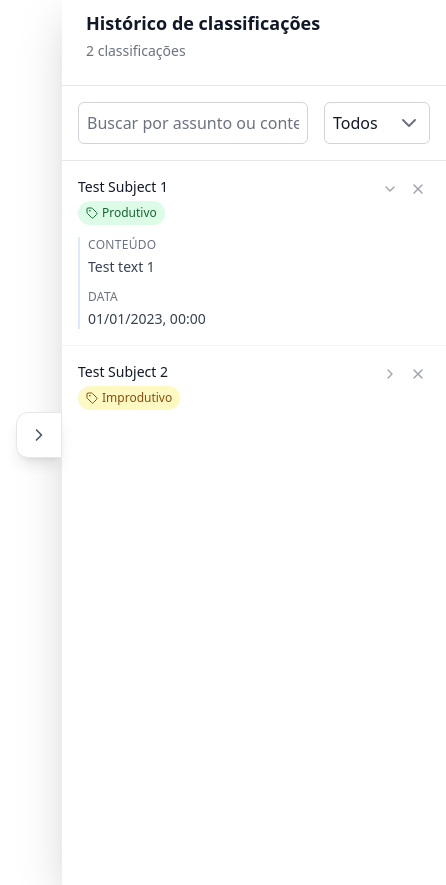
Scenario: EmailSidebar › renders results and expands them correctly
The image size is (446, 885).
Expected: the text "Test text 1" is shown, 88,257 -> 155,276
Expected: the text "Test Subject 2" is shown, 78,362 -> 168,381
# Click the first result to collapse it
Click the text "Test Subject 1".
click(123, 186)  # box 78,177 -> 168,196
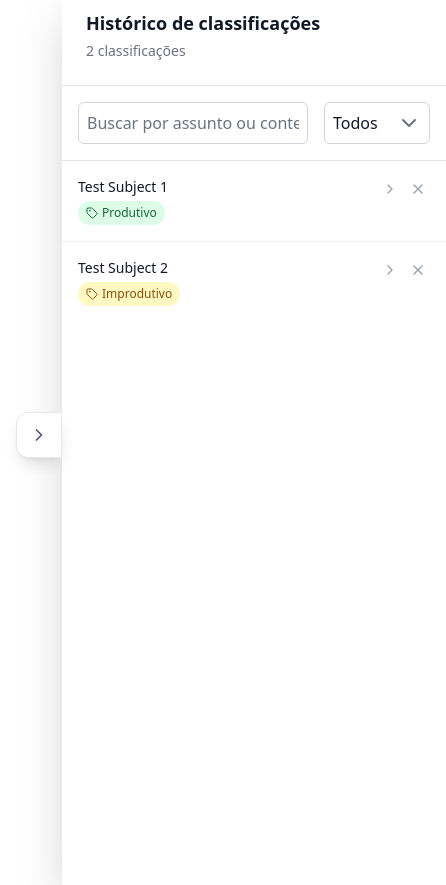
Expected: the text "Test text 1" is gone
# Click the second result to expand it
Click the text "Test Subject 2".
click(123, 268)  # box 78,258 -> 168,277
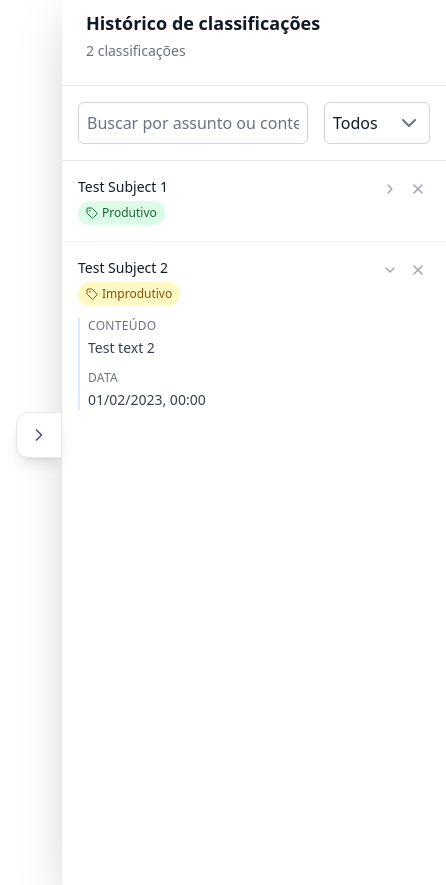
Expected: the text "Test text 2" is shown, 88,338 -> 155,357
